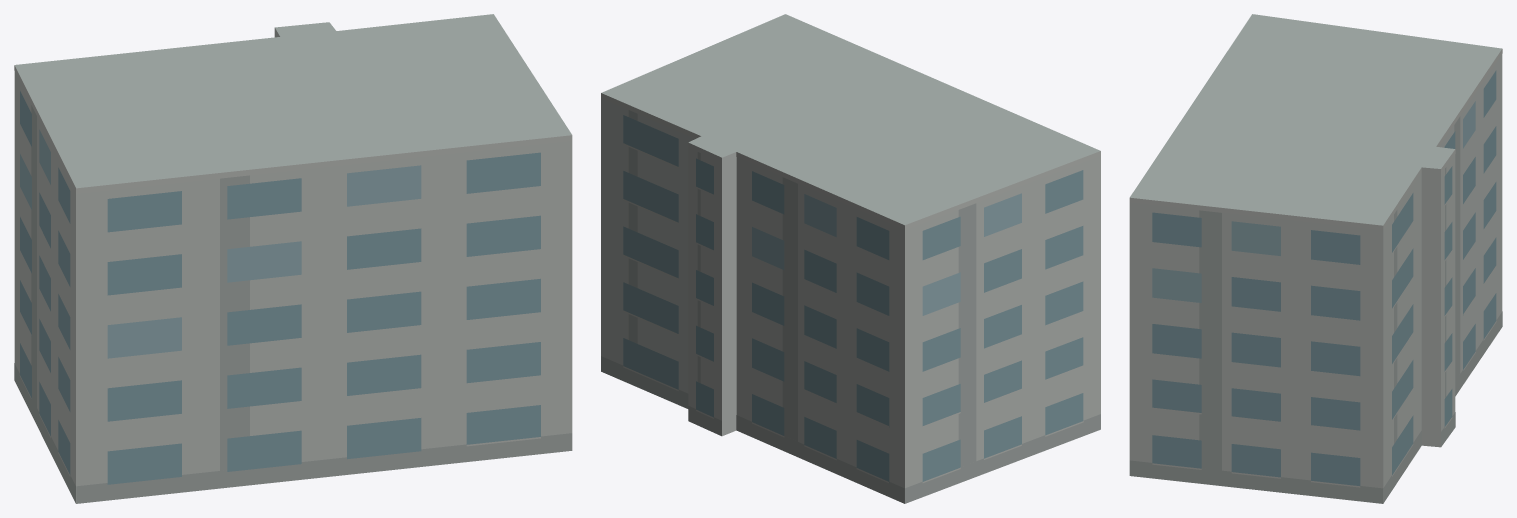
The model's file is survey-upis-32765204.glb.
The picture shows the model from 3 angles, left to right: view 1: azimuth 30°, elevation 25°; view 2: azimuth 150°, elevation 25°; view 3: azimuth 270°, elevation 25°; orthographic projection. The views are drawn at different scales.
Parts seen in each view (by area): view 1: survey-upis-32765204.tmp; view 2: survey-upis-32765204.tmp; view 3: survey-upis-32765204.tmp.
Boxes of the visible parts, <box> form: survey-upis-32765204.tmp: <box>14,14,572,503</box>; survey-upis-32765204.tmp: <box>601,14,1100,503</box>; survey-upis-32765204.tmp: <box>1129,14,1502,503</box>.
Size of the model in its own units: 22.03 by 13.5 by 16.4.
